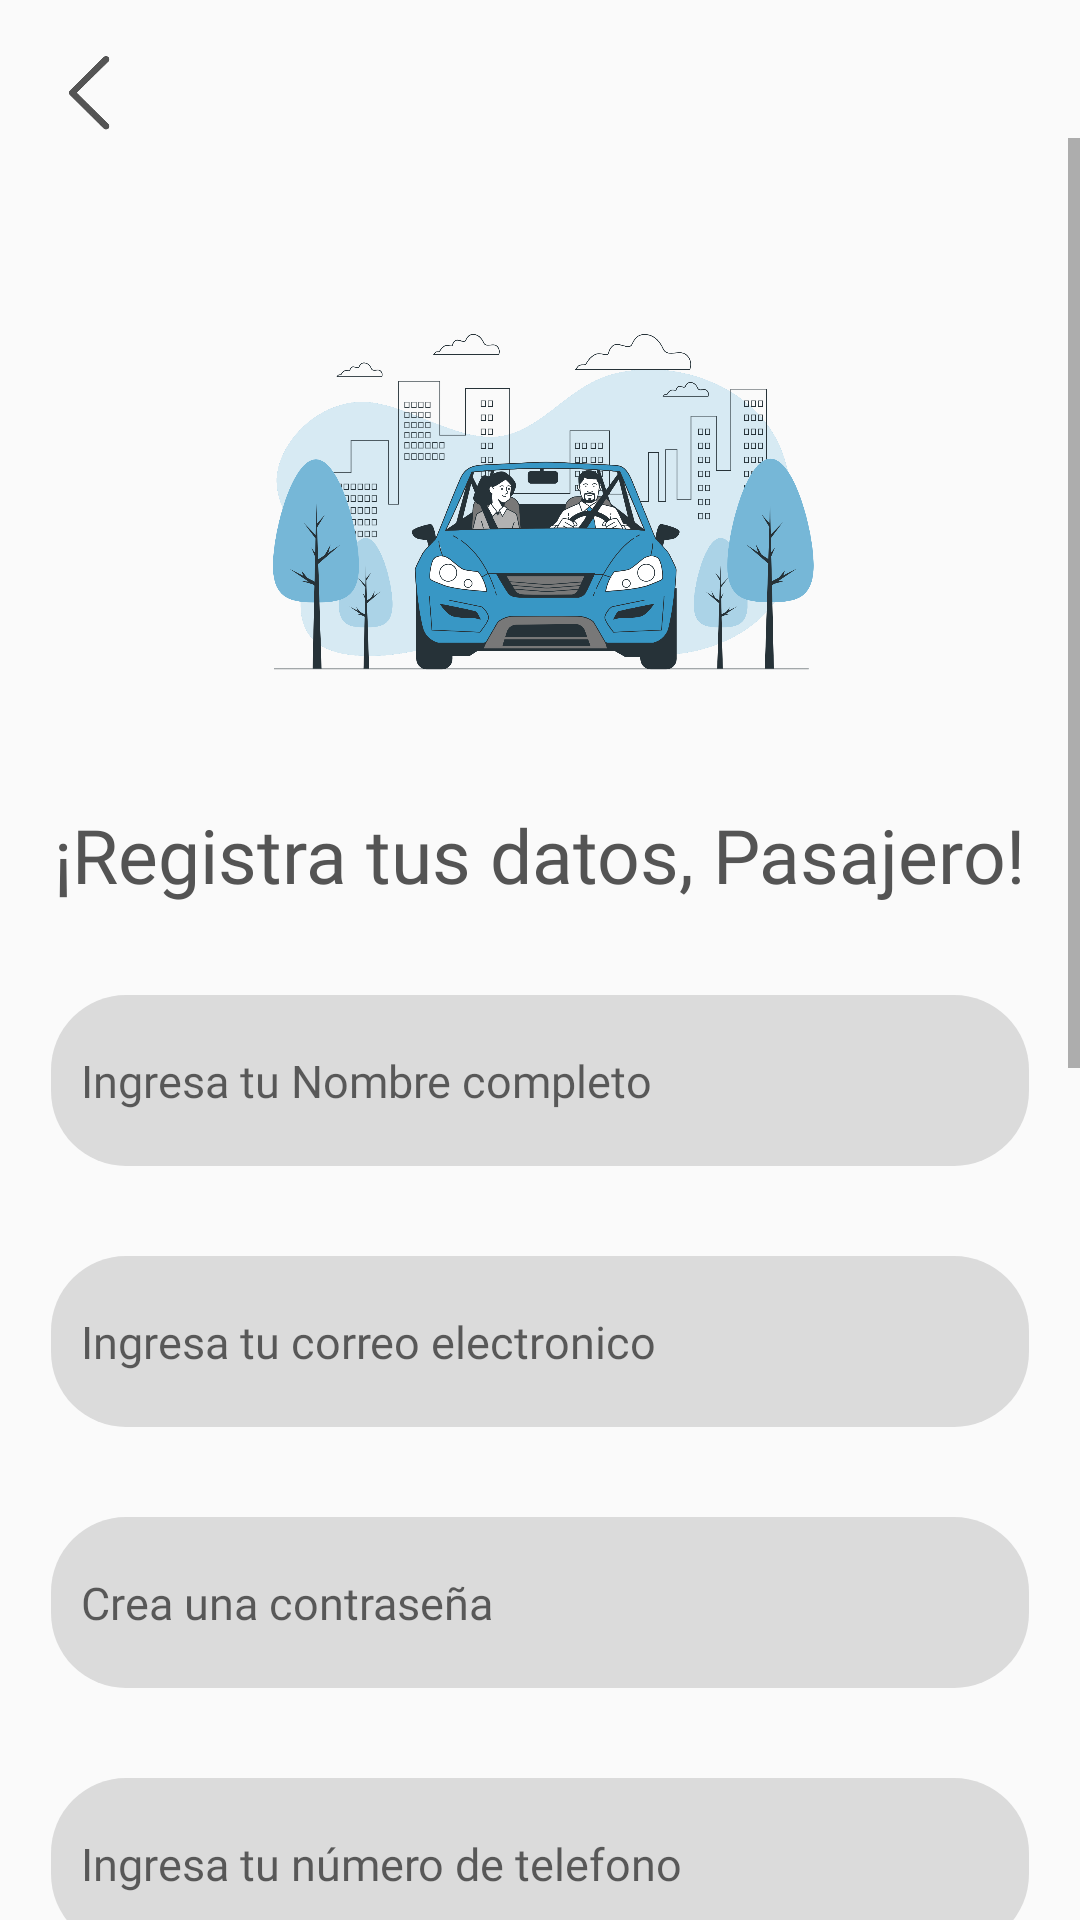

Locate icon controls on the screen. Image size 1080px x 1920px, boxes as (x1, y1, x2, y2).
back arrow: (69, 56, 109, 130)
